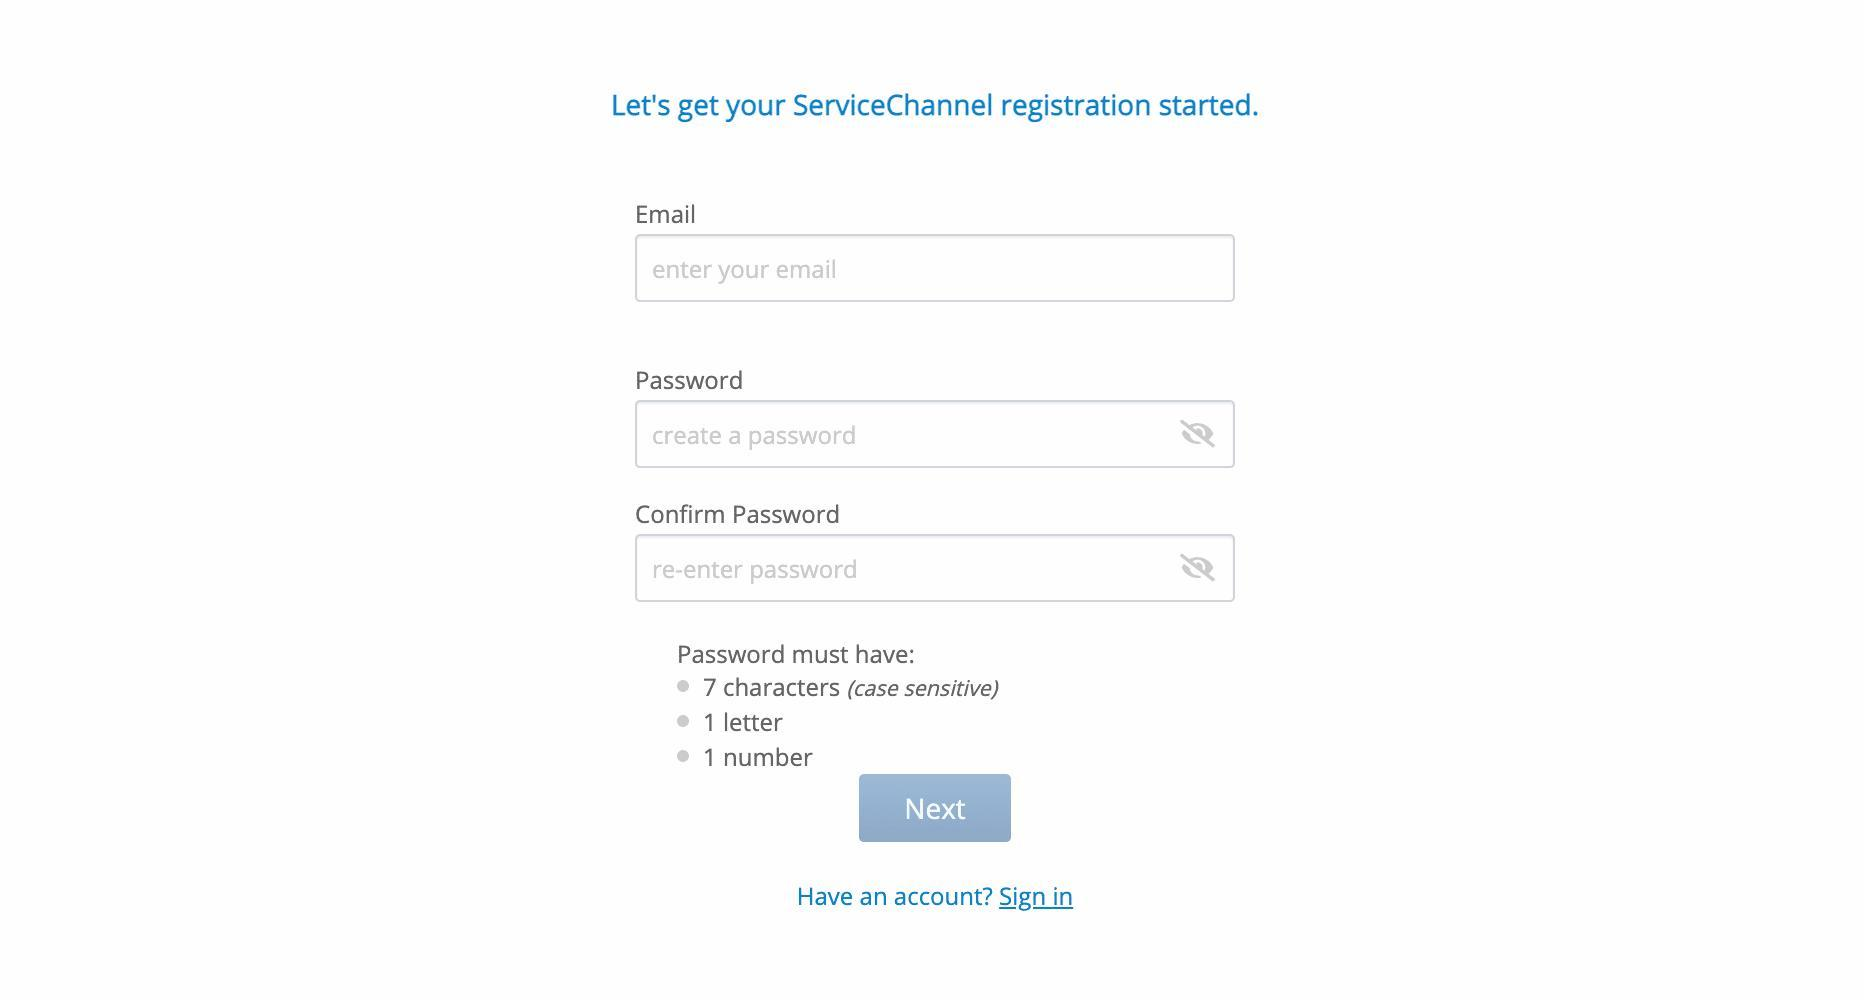button: (860, 771, 1015, 846)
icon: (1172, 543, 1222, 591), (1172, 408, 1222, 455)
input: (634, 533, 1239, 607), (636, 402, 1237, 470), (634, 239, 1238, 305)
label: (635, 503, 844, 529), (632, 363, 750, 397), (634, 196, 700, 228)
